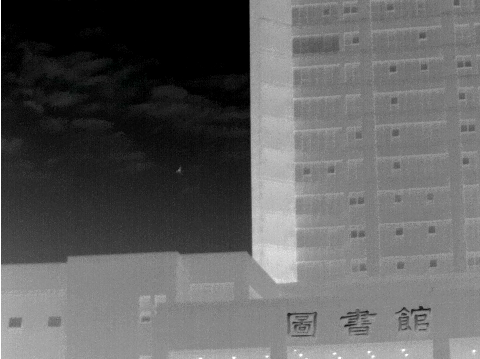dim target: (169, 159, 188, 178)
